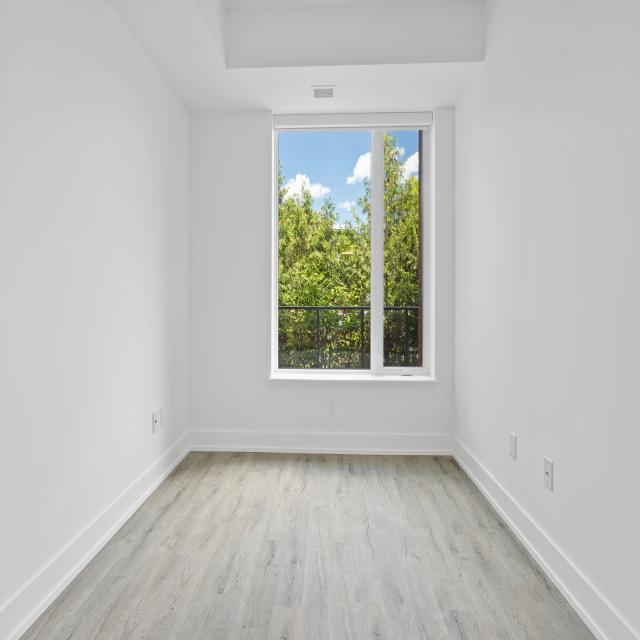floor: (18, 453, 597, 640)
